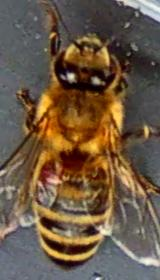varroa_mite: (31, 156, 75, 196)
